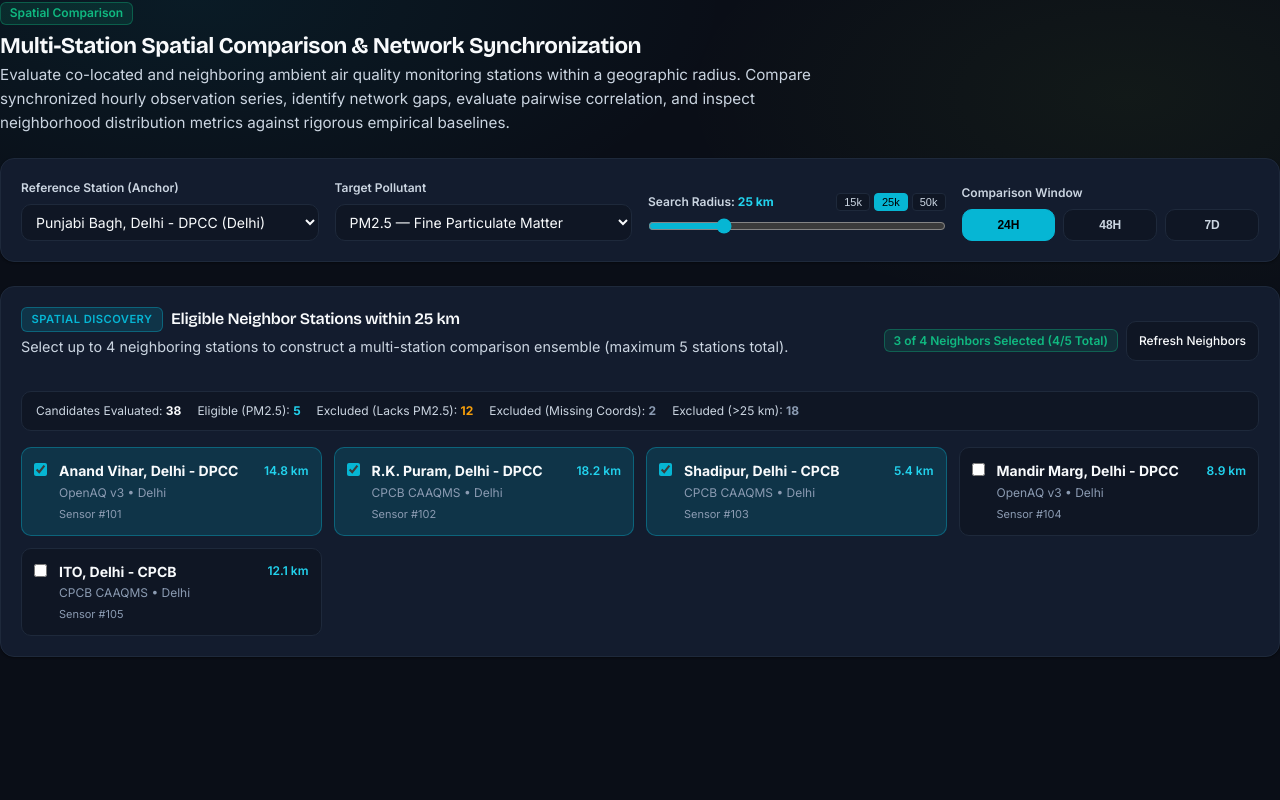
it: SpatialSection Component (Milestone 7 Phase B) › enforces 5-station maximum (1 reference + up to 4 neighbors) and disables further checkboxes
Check: the heading "Eligible Neighbor Stations within 25 km" is shown, box [171, 307, 460, 332]
Click the checkbox named "Select Mandir Marg, Delhi - DPCC for comparison": (978, 470) [972, 463, 984, 476]
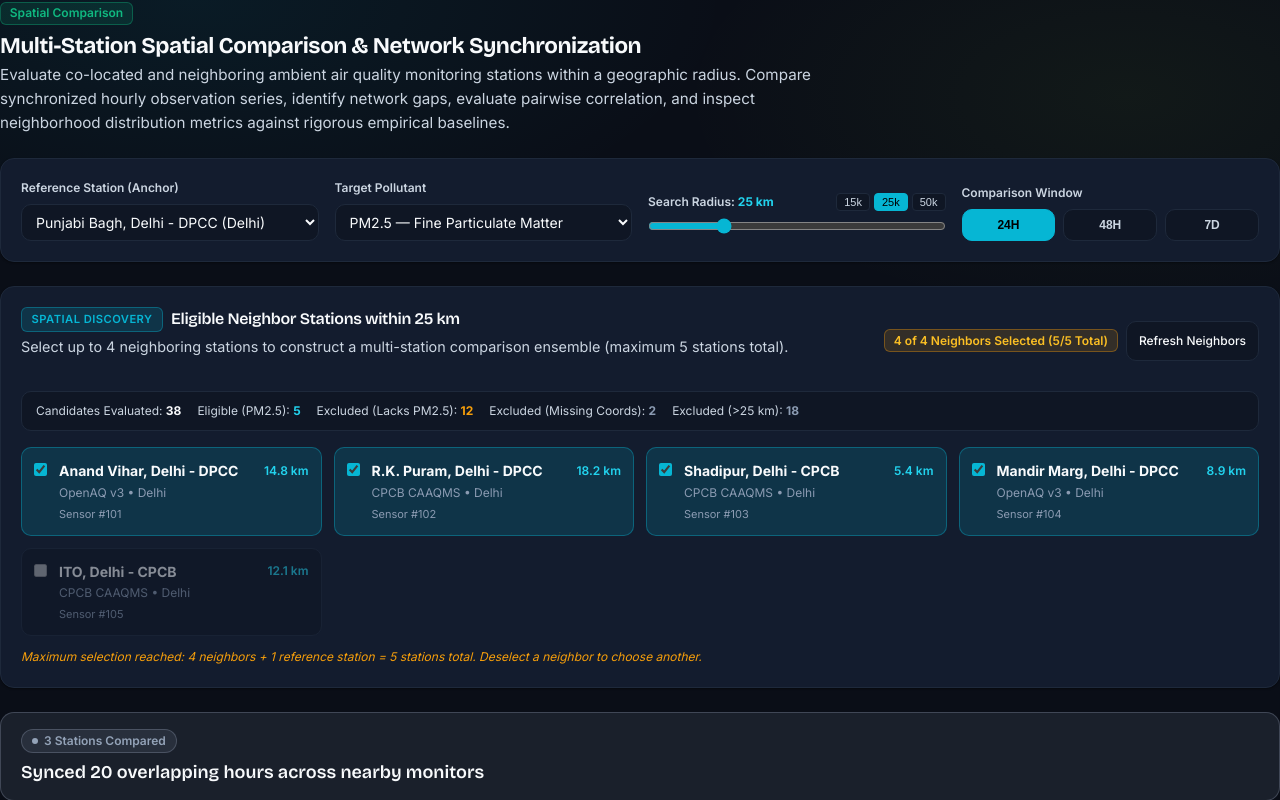
Check: the text "4 of 4 Neighbors Selected (5/5 Total)" is shown, box [884, 329, 1118, 352]
Check: the checkbox named "Select ITO, Delhi - CPCB for comparison" is disabled, box [34, 564, 47, 577]
Check: the text "Maximum selection reached: 4 neighbors + 1 reference station = 5 stations total" is shown, box [21, 649, 702, 664]
# Deselect one neighbor, then ITO should become enabled again
Click the checkbox named "Select Mandir Marg, Delhi - DPCC for comparison": (978, 470) [972, 463, 984, 476]
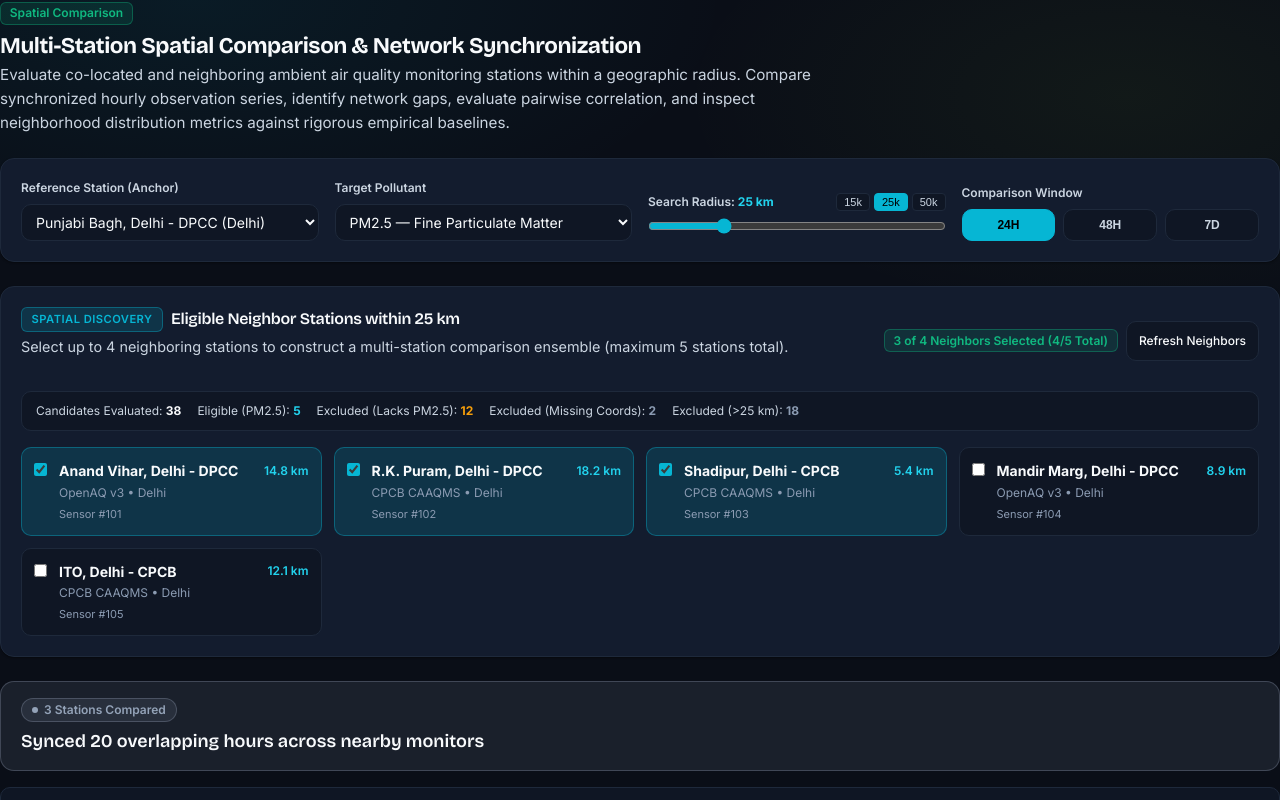
Check: the checkbox named "Select ITO, Delhi - CPCB for comparison" is enabled, box [34, 564, 47, 577]
